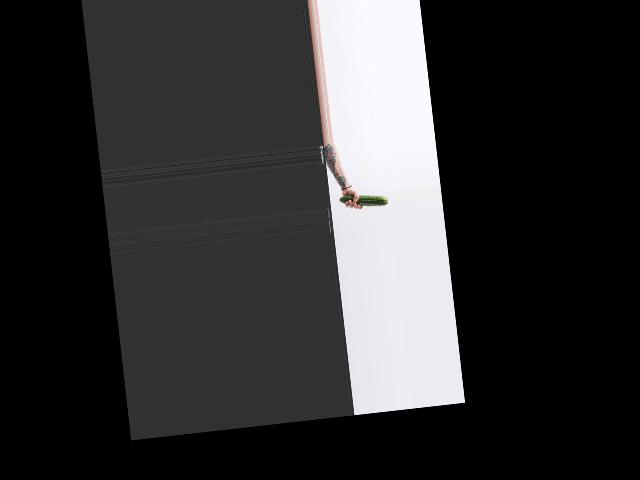cucumber: (339, 191, 388, 210)
